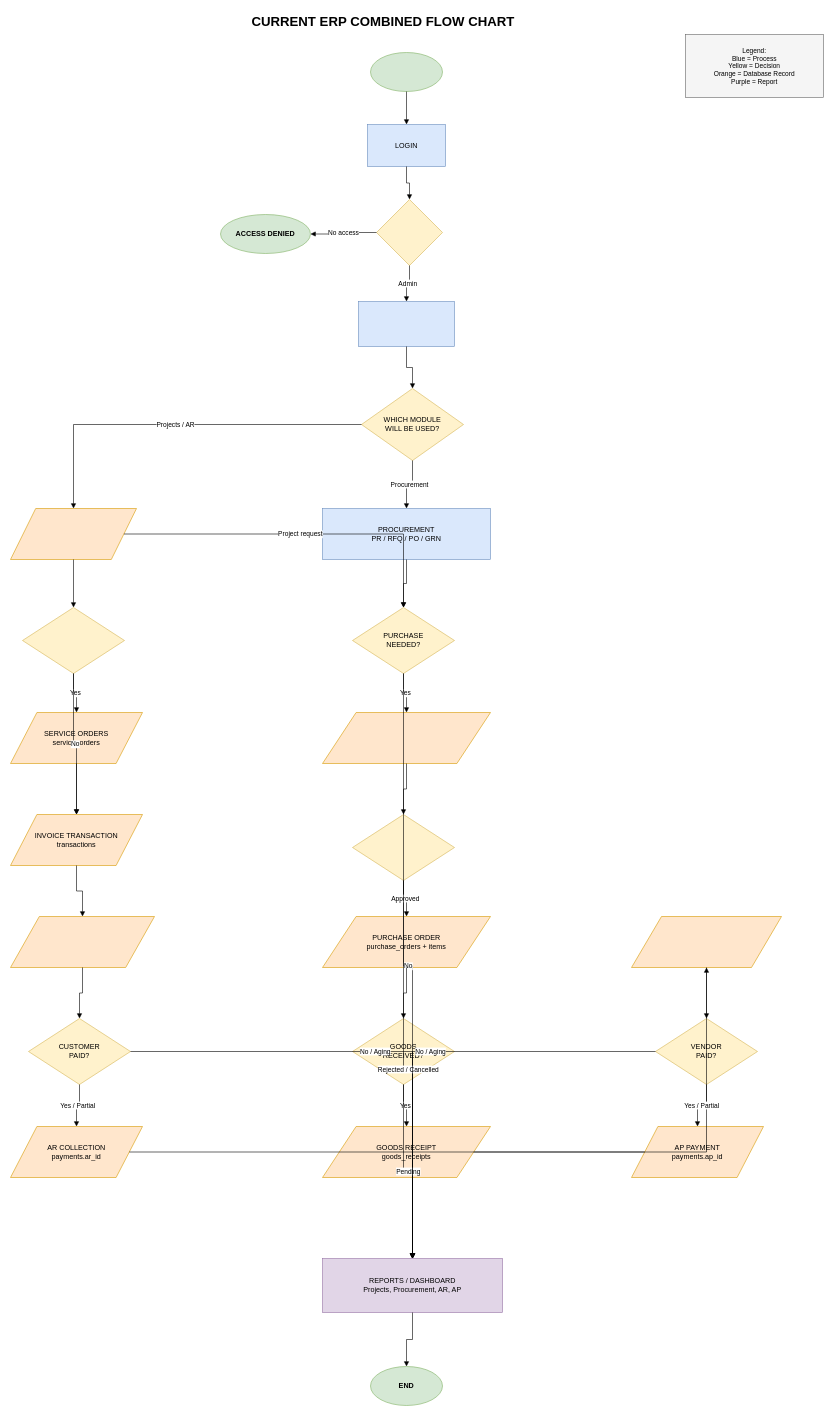
The diagram is 834 pixels wide and 1416 high, and some of its shapes have lost their labels. Each missing label, with the box of its shape:
ACCOUNTS PAYABLE accounts_payable: (631, 916, 782, 968)
ACCOUNTS RECEIVABLE accounts_receivable: (10, 916, 154, 968)
DASHBOARD: (358, 301, 454, 346)
PR / PO APPROVED?: (352, 814, 454, 880)
PROJECTS projects: (10, 508, 136, 560)
PURCHASE REQUISITION purchase_requisitions: (322, 712, 490, 764)
ROLE CHECK?: (376, 199, 442, 266)
SERVICE ORDER NEEDED?: (22, 607, 124, 674)
START: (370, 52, 442, 92)
